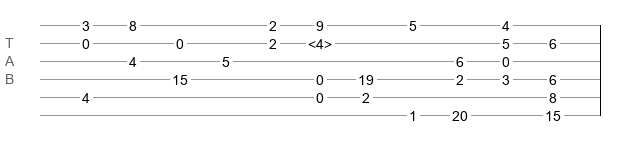0: (82, 36, 90, 46), (176, 36, 184, 46), (316, 72, 324, 82), (316, 90, 324, 100), (502, 54, 510, 64)
1: (409, 108, 417, 118)
15: (172, 72, 188, 82), (545, 108, 561, 118)
19: (358, 72, 374, 82)
2: (269, 18, 277, 28), (269, 36, 277, 46), (362, 90, 370, 100), (456, 72, 464, 82)
20: (452, 108, 468, 118)
3: (82, 18, 90, 28), (502, 72, 510, 82)
4: (82, 90, 90, 100), (129, 54, 137, 64), (502, 18, 510, 28)
5: (222, 54, 230, 64), (409, 18, 417, 28), (502, 36, 510, 46)
6: (456, 54, 464, 64), (549, 36, 557, 46), (549, 72, 557, 82)
8: (129, 18, 137, 28), (549, 90, 557, 100)
9: (316, 18, 324, 28)
harmonic: (308, 36, 332, 46)
